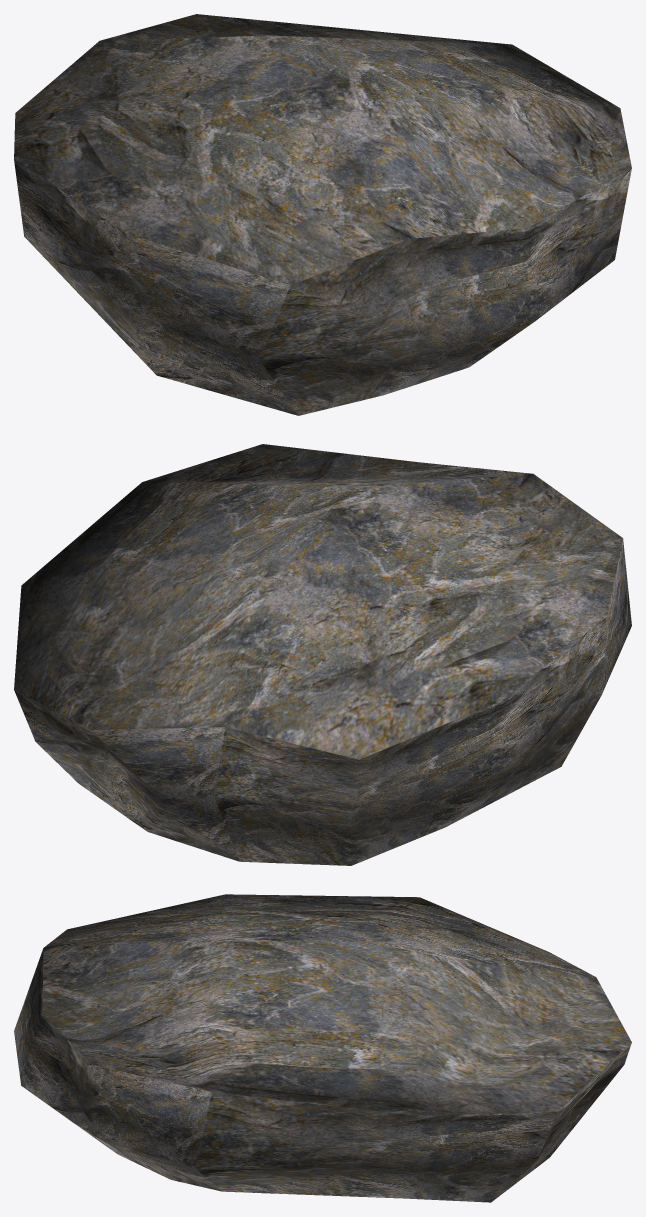
The model's file is Stone-01.obj.
3 views of the same model, one above another, from view 1: azimuth 30°, elevation 25°; view 2: azimuth 150°, elevation 25°; view 3: azimuth 270°, elevation 25° (orthographic). The views are drawn at different scales.
Parts seen in each view (by area): view 1: Stone-01; view 2: Stone-01; view 3: Stone-01.
Boxes of the visible parts, <box> form: Stone-01: <box>14,14,631,415</box>; Stone-01: <box>14,444,631,865</box>; Stone-01: <box>14,894,631,1202</box>.
Size of the model in its own units: 6.57 by 3.22 by 8.02.
